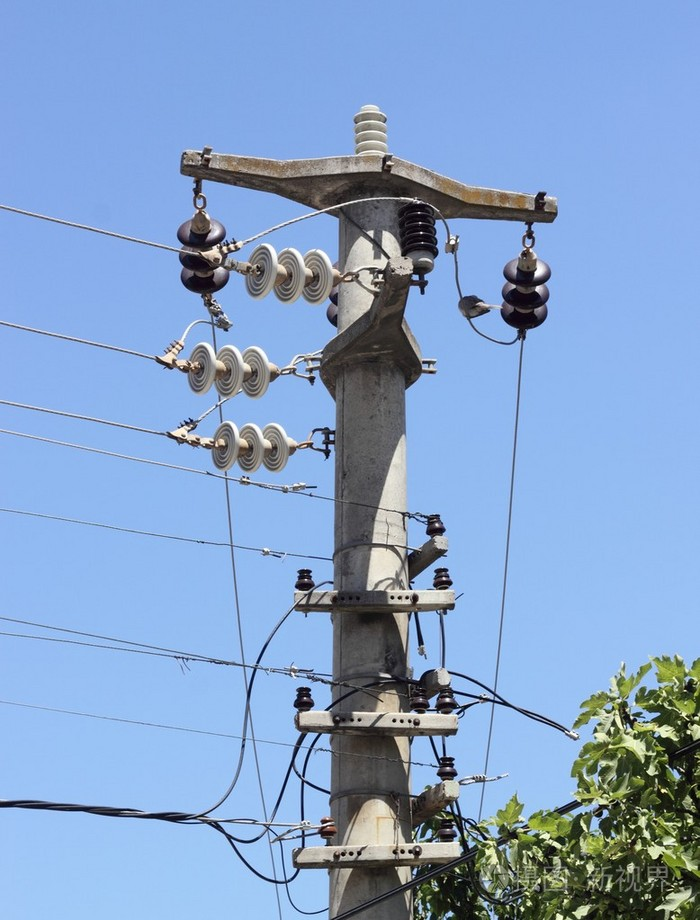insulator: (240, 242, 334, 305), (179, 339, 272, 396), (171, 215, 230, 295), (206, 420, 291, 475), (497, 257, 551, 328), (401, 195, 436, 257), (351, 110, 394, 159)
